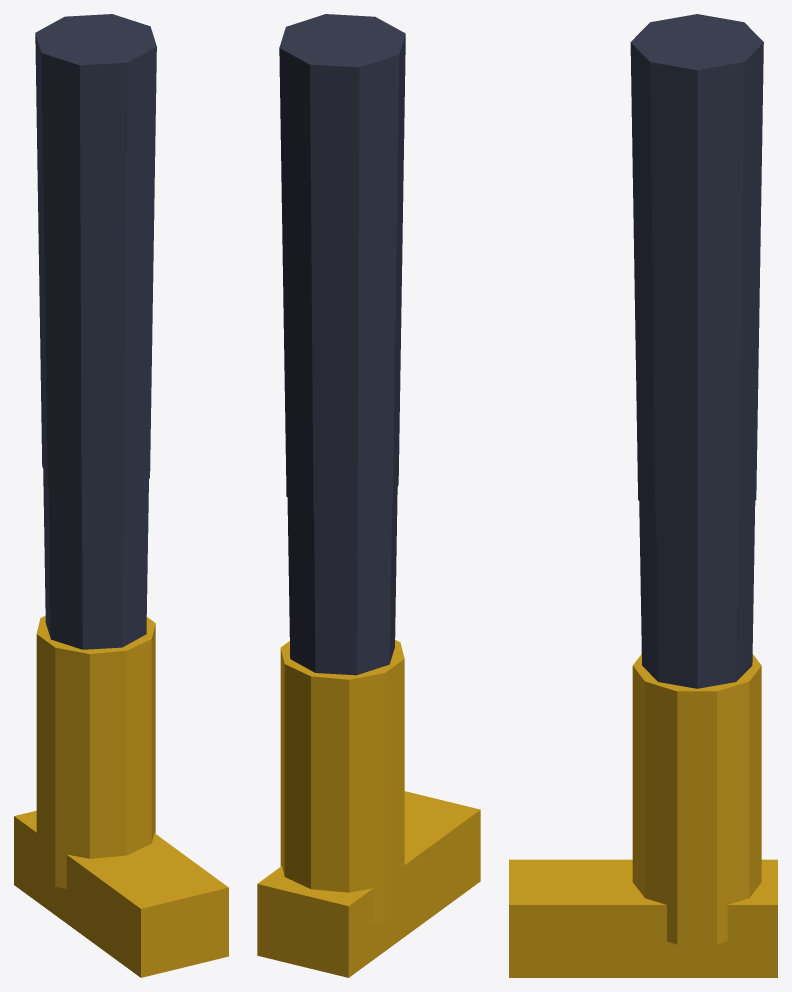
The model's file is PersonMarketLegL.obj.
3 views of the same model, side by side, from view 1: azimuth 30°, elevation 25°; view 2: azimuth 150°, elevation 25°; view 3: azimuth 270°, elevation 25° (orthographic). The views are drawn at different scales.
Parts seen in each view (by area): view 1: PersonMarketLegL; view 2: PersonMarketLegL; view 3: PersonMarketLegL.
Boxes of the visible parts, box(x1,y1,x2,y2) form: PersonMarketLegL: box(14, 14, 228, 977); PersonMarketLegL: box(257, 14, 480, 977); PersonMarketLegL: box(509, 14, 777, 977).
Bounding box in the file's own units: 0.124 × 0.9375 × 0.25.
